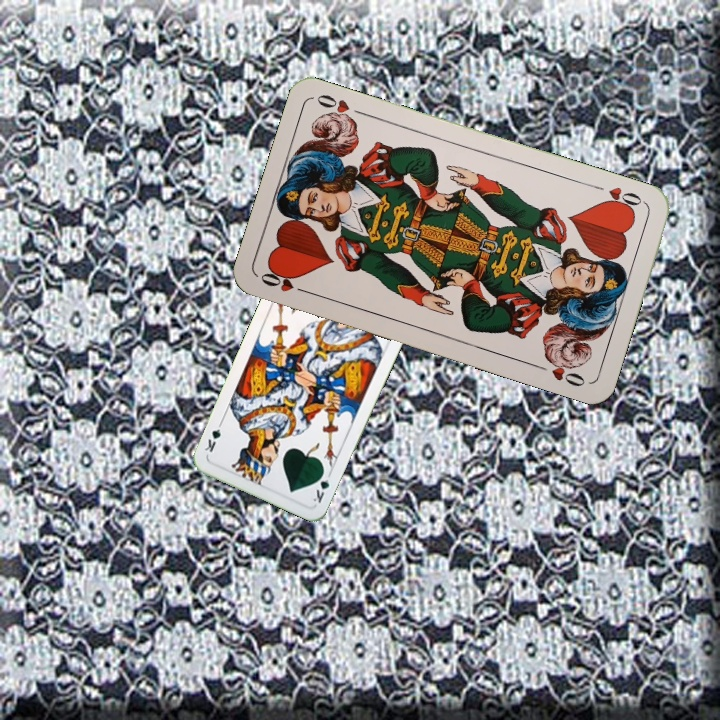GK: (309, 466, 334, 506)
HO: (589, 181, 647, 215), (256, 265, 314, 297)
